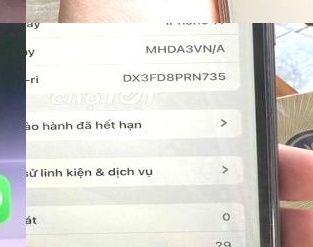scratch: (266, 195, 287, 247)
